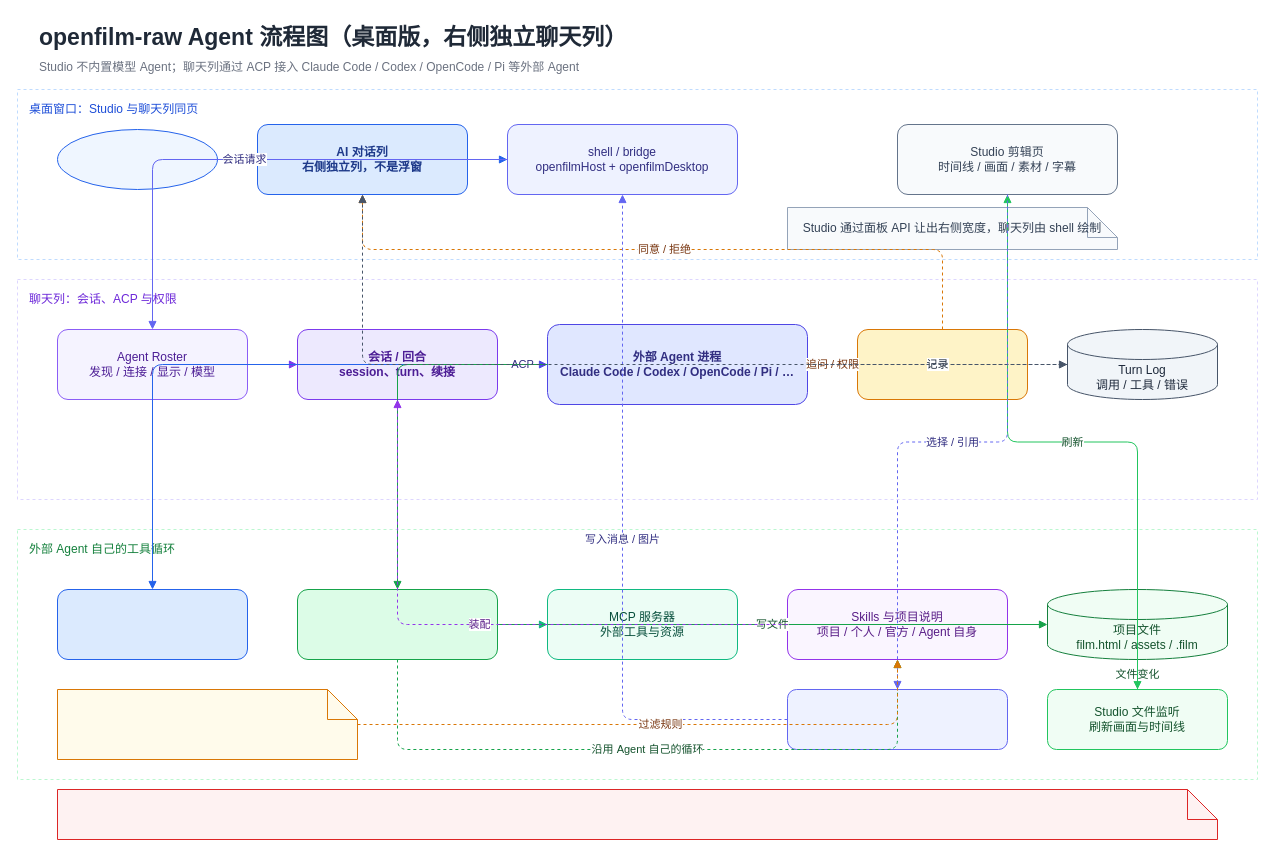
The diagram is 1275 pixels wide and 857 high, and some of its shapes have lost their labels. Here are the shapes that lost their labels. From the top down, the centre of each, then its label:
(x=137, y=159): 用户 在右侧聊天列输入
(x=942, y=364): 权限 / 问题 allow / ask / deny
(x=152, y=624): 模型与推理 由 Agent 自己选择
(x=397, y=624): 工具循环 读 / 写 / 命令 / 编辑
(x=207, y=724): 技能与 MCP 过滤 每个 Agent 只拿到允许的内容
(x=897, y=719): Studio 选择 / 引用 片段、时刻、图层、字幕
(x=637, y=814): 重点：右侧聊天列是桌面版 shell 的一部分；Studio 只负责编辑与提供上下文，模型 Agent 由外部程序运行
